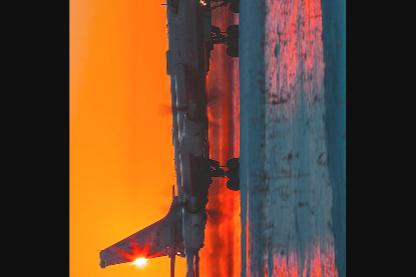Su57: (93, 0, 241, 276)
